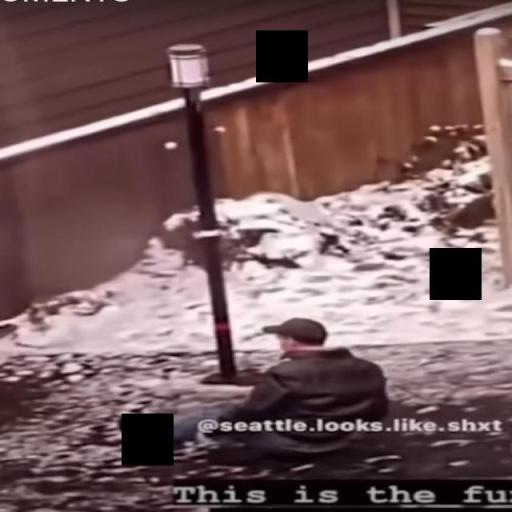Fall: (112, 317, 390, 460)
